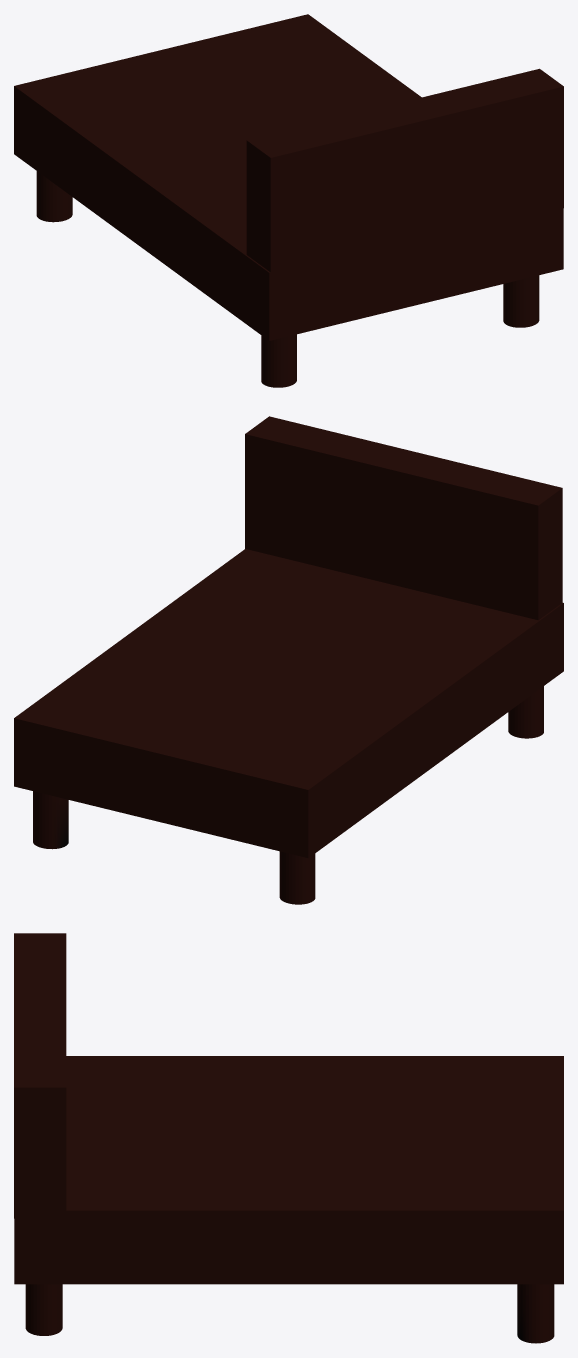
Rendered from Furniture.fbx.
3 renders of one model, top to bottom at view 1: azimuth 30°, elevation 25°; view 2: azimuth 150°, elevation 25°; view 3: azimuth 270°, elevation 25°, orthographic. The views are drawn at different scales.
Visible parts, largest first — view 1: Cylinder.001; view 2: Cylinder.001; view 3: Cylinder.001.
Part boxes in pixels (x1,y1,x2,y2): Cylinder.001: (14,14,563,387); Cylinder.001: (14,416,563,904); Cylinder.001: (14,933,563,1343).
Size of the model in its own units: 384 by 301 by 576.
